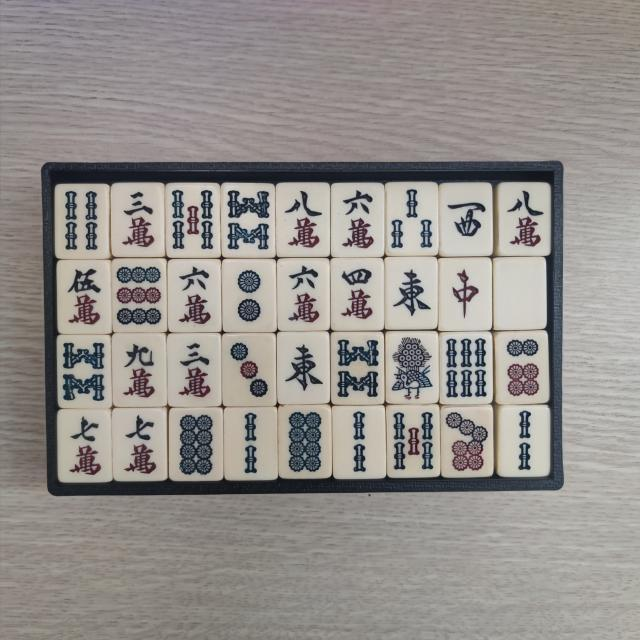hdr: (443, 262, 486, 326)
hdw: (500, 262, 542, 324)
hwe: (390, 260, 436, 324), (280, 337, 325, 399)
hww: (444, 188, 490, 252)
sb1: (389, 334, 435, 401)
sb2: (230, 410, 272, 478), (338, 410, 381, 476), (504, 411, 546, 475)
sb3: (387, 186, 433, 253)
sb4: (60, 188, 103, 254)
sb5: (173, 188, 219, 255), (391, 409, 437, 474)
sb6: (446, 336, 491, 400)
sb8: (225, 186, 272, 254), (61, 338, 108, 404), (336, 335, 382, 401)
sc3: (116, 187, 160, 252), (174, 337, 218, 402)
sc4: (335, 262, 379, 326)
sc5: (62, 264, 106, 329)
sc6: (335, 188, 380, 253), (174, 264, 216, 328), (284, 262, 326, 326)
sc7: (64, 413, 108, 478), (119, 412, 162, 477)
sc8: (281, 187, 328, 253), (503, 187, 547, 250)
sc9: (118, 338, 162, 403)
sd2: (228, 264, 272, 330)
sd3: (224, 337, 270, 402)
sd6: (502, 336, 545, 401)
sd7: (446, 410, 490, 473)
sd8: (176, 413, 218, 478), (286, 410, 328, 475)
sd9: (115, 264, 163, 328)
